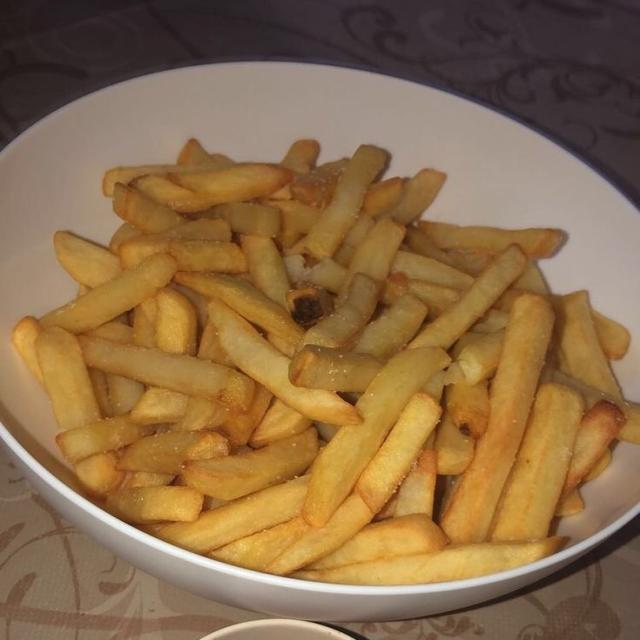potato fries: (13, 139, 639, 584), (441, 295, 553, 542)
